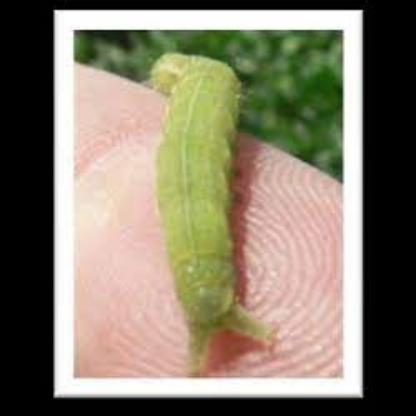oruga: (144, 51, 272, 367)
